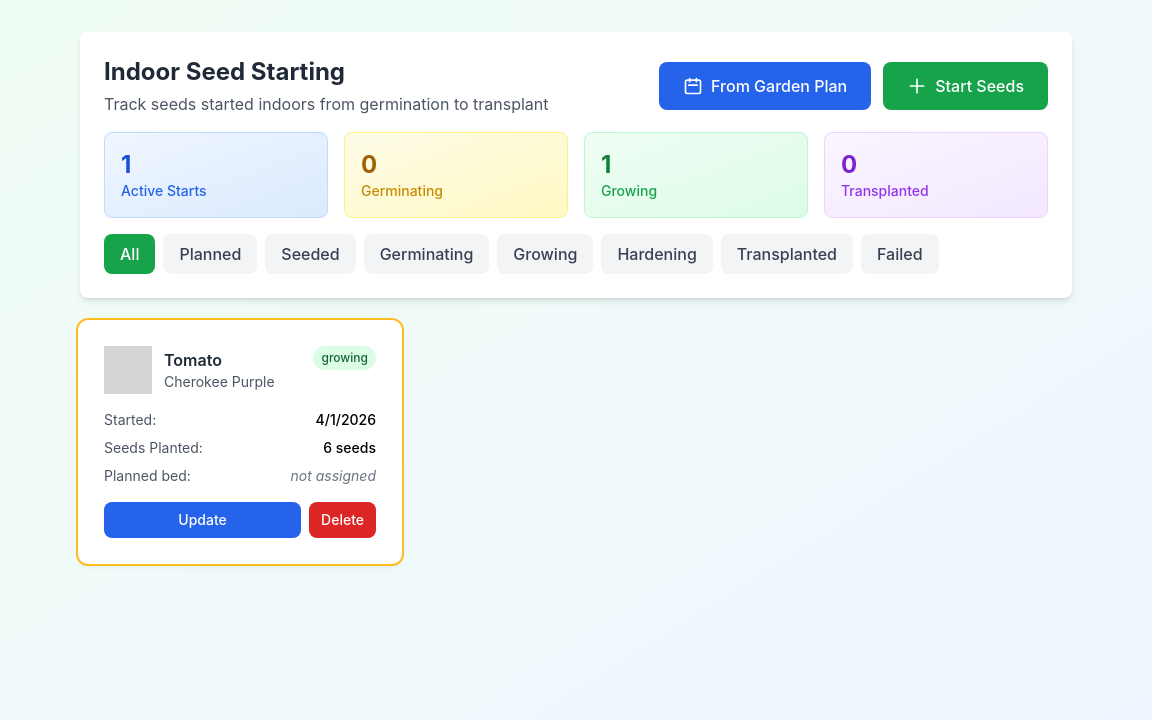
it: IndoorSeedStarts focus integration › manual status filter is not reset after focus request has been handled
Check: the element with test id "iss-card-55" is shown, box [80,322,400,562]
Click the button "Failed" at (900, 254), box [861,234,938,274]
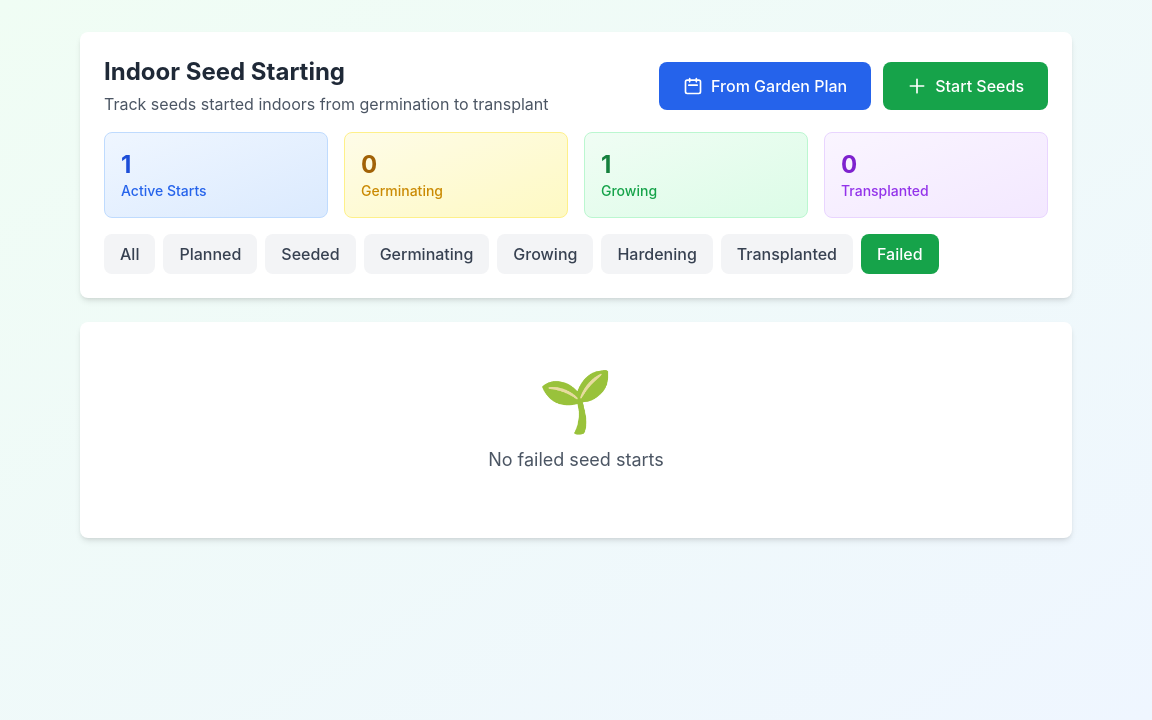
Check: the text "No failed seed starts" is shown, box [488,449,664,470]
Check: the element with test id "iss-card-55" is gone
